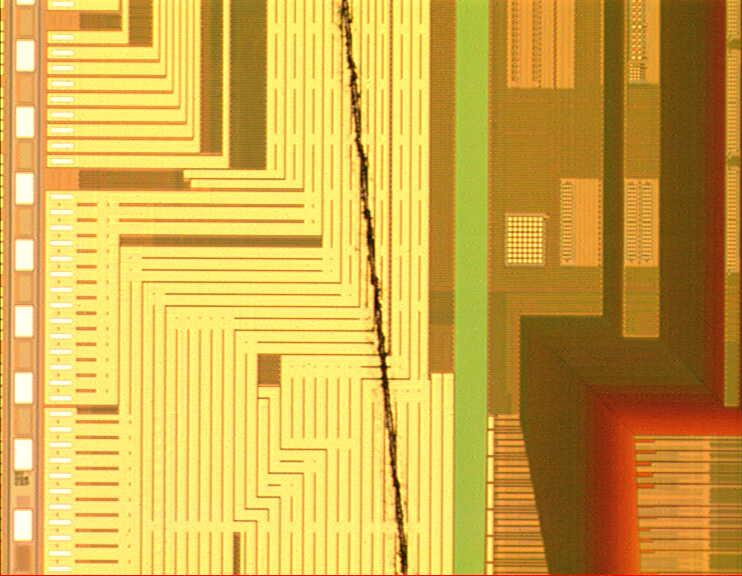SCRATCH: (332, 1, 423, 576)
